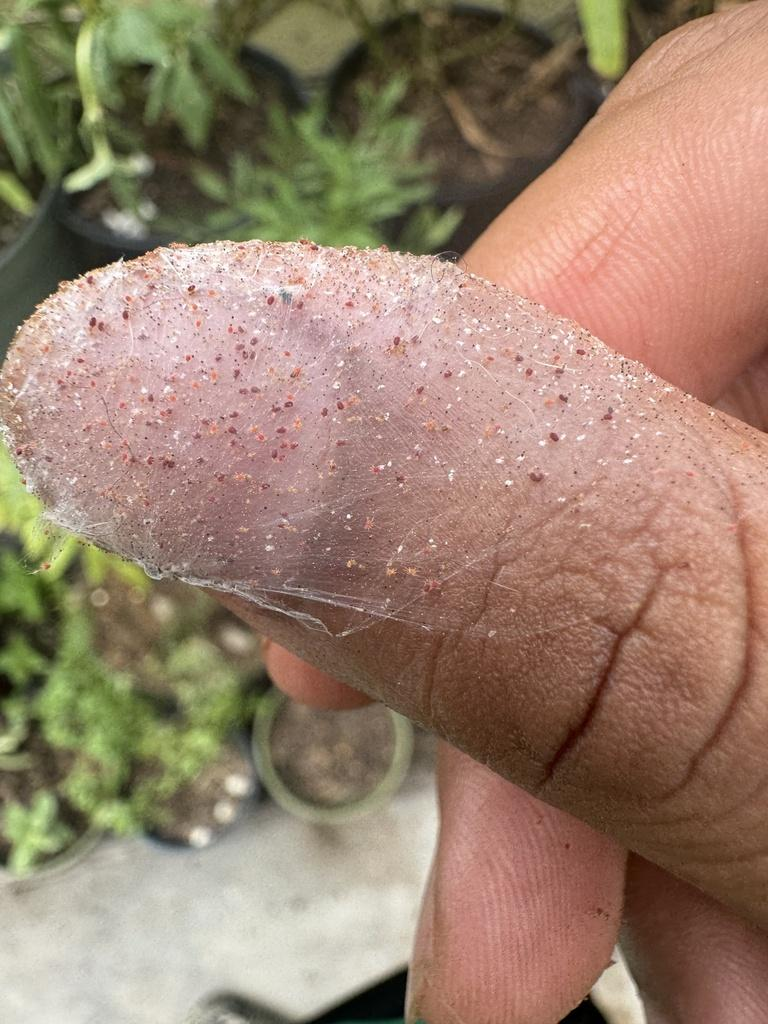tiny_pests: (5, 218, 593, 585)
